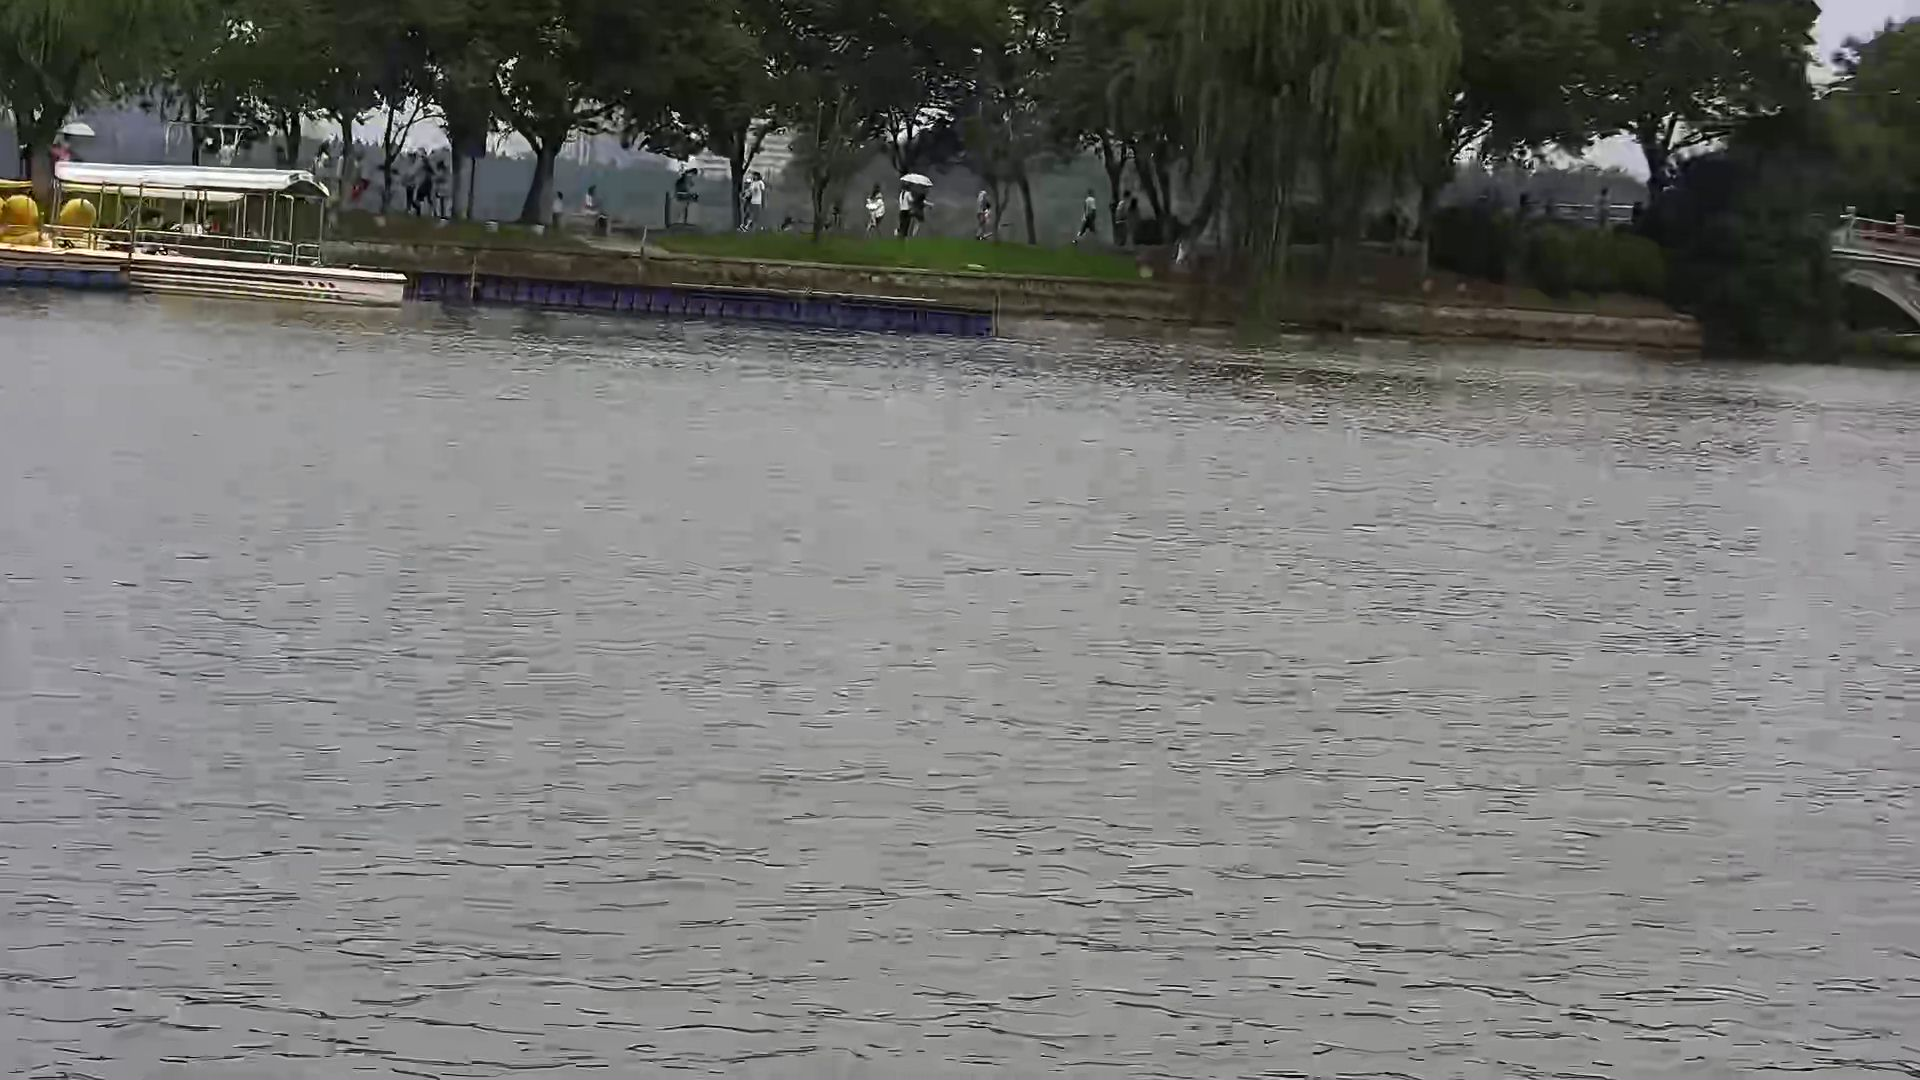boat: (15, 158, 409, 309)
